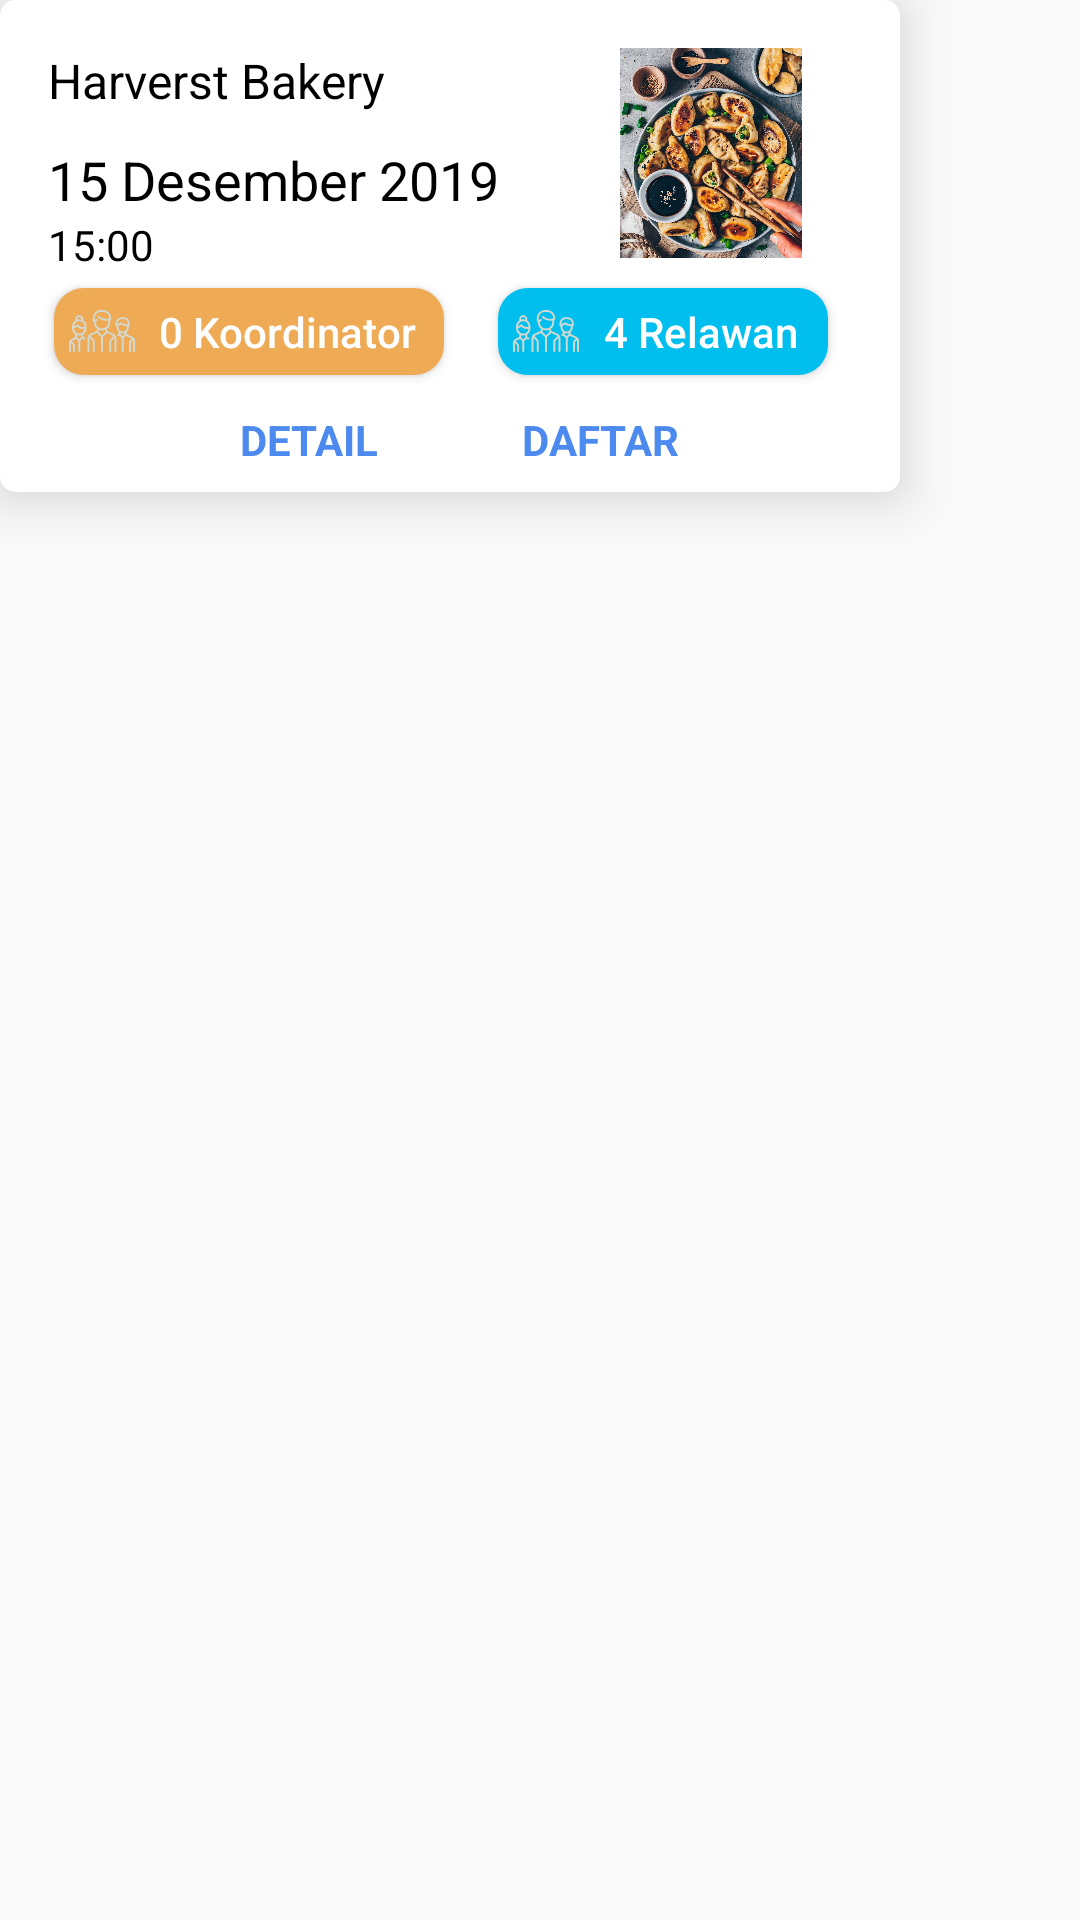

Where icons sit on this 1080 × 1920 app screen, as (x1, y1, x2, y2):
Gambar: (620, 48, 802, 258)
